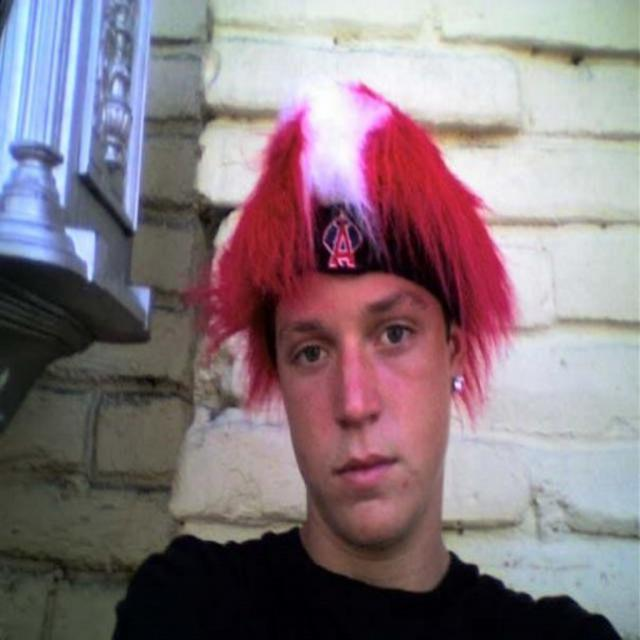closed-mouth: (327, 444, 405, 495)
